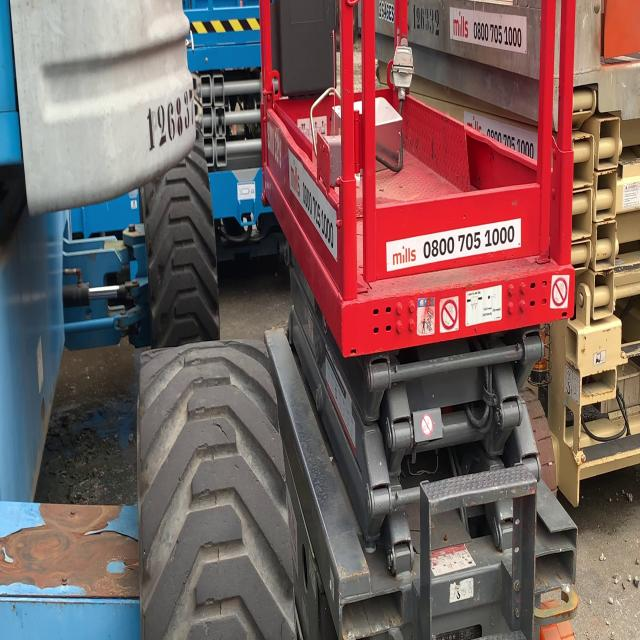Adesivo Longo: (385, 213, 524, 276), (288, 147, 338, 265), (449, 6, 528, 56)
